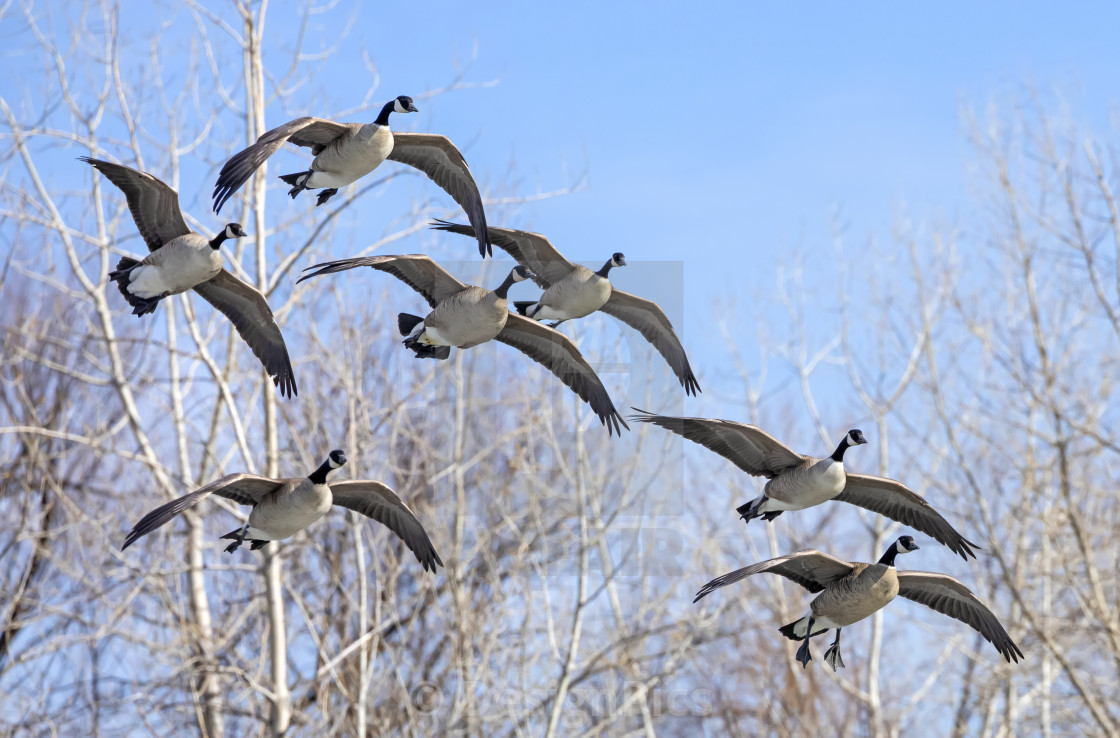goose: (299, 260, 624, 433), (627, 403, 979, 562), (77, 153, 299, 398), (426, 214, 699, 393), (211, 91, 494, 259), (688, 532, 1024, 670), (118, 445, 443, 574)
